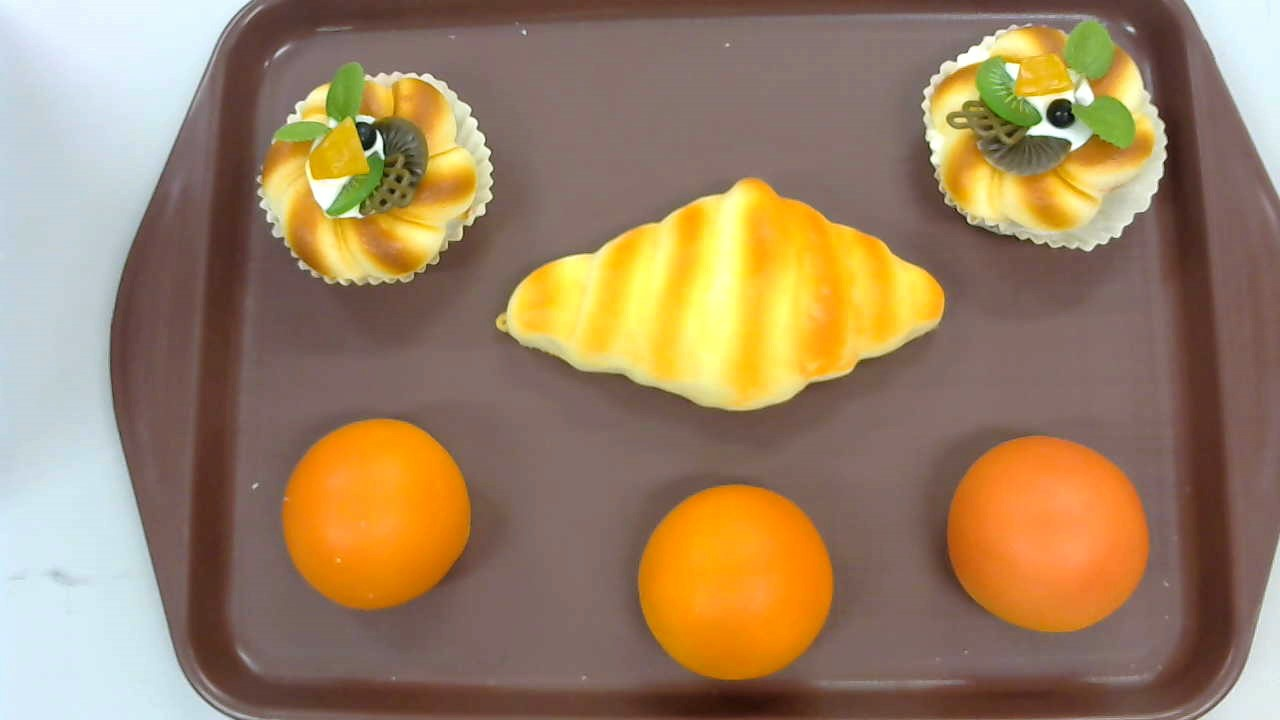bun: (947, 436, 1147, 632), (636, 484, 834, 681), (282, 419, 472, 611)
croissant: (495, 178, 947, 413)
fruit tart: (921, 18, 1168, 253), (257, 62, 493, 287)
